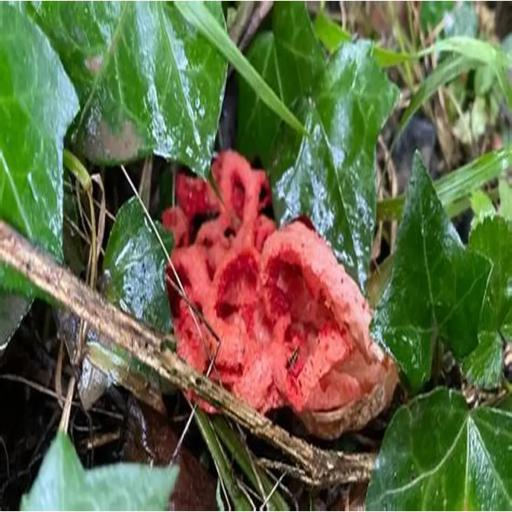mushroom: (168, 156, 399, 432)
